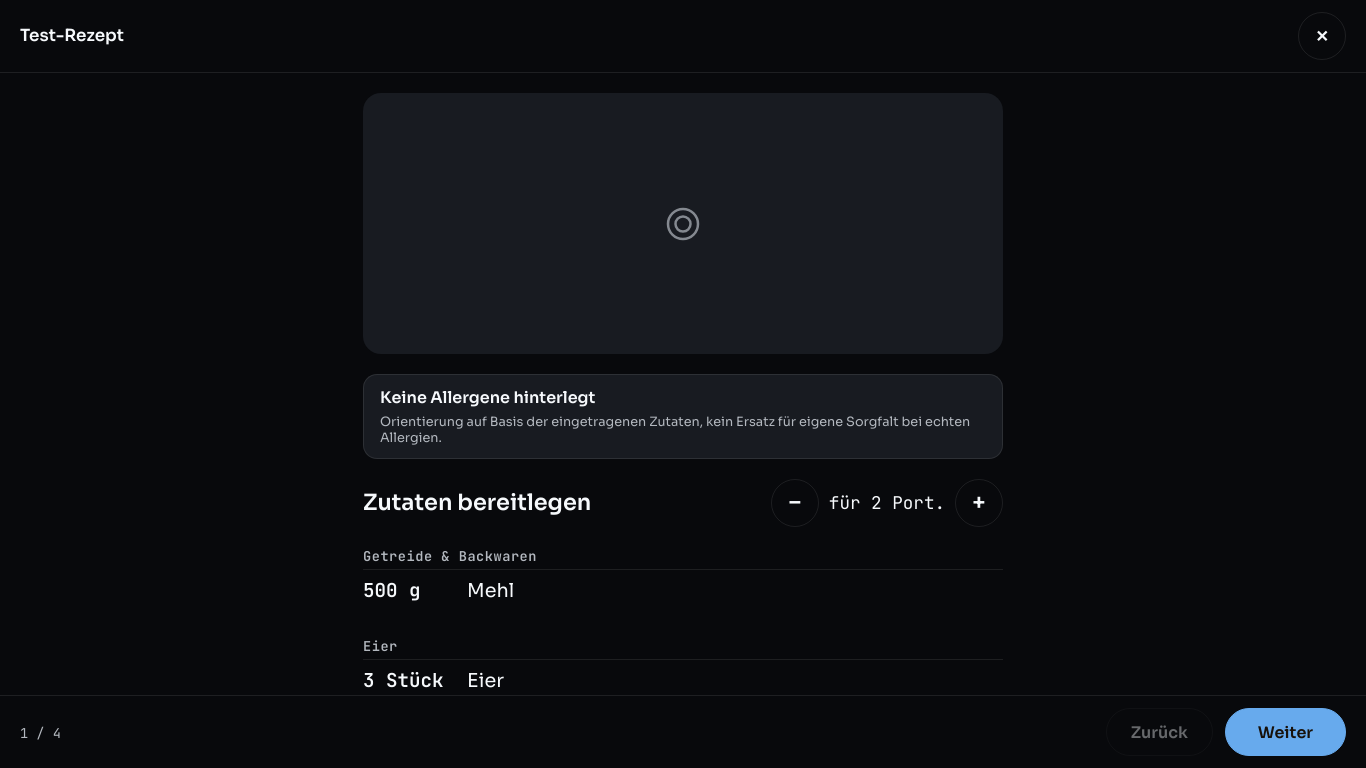
Test case: CookingDialog — Portionswahl › Minus senkt die Menge
Click the button named "Eine halbe Portion weniger": (795, 502) [771,478,819,526]
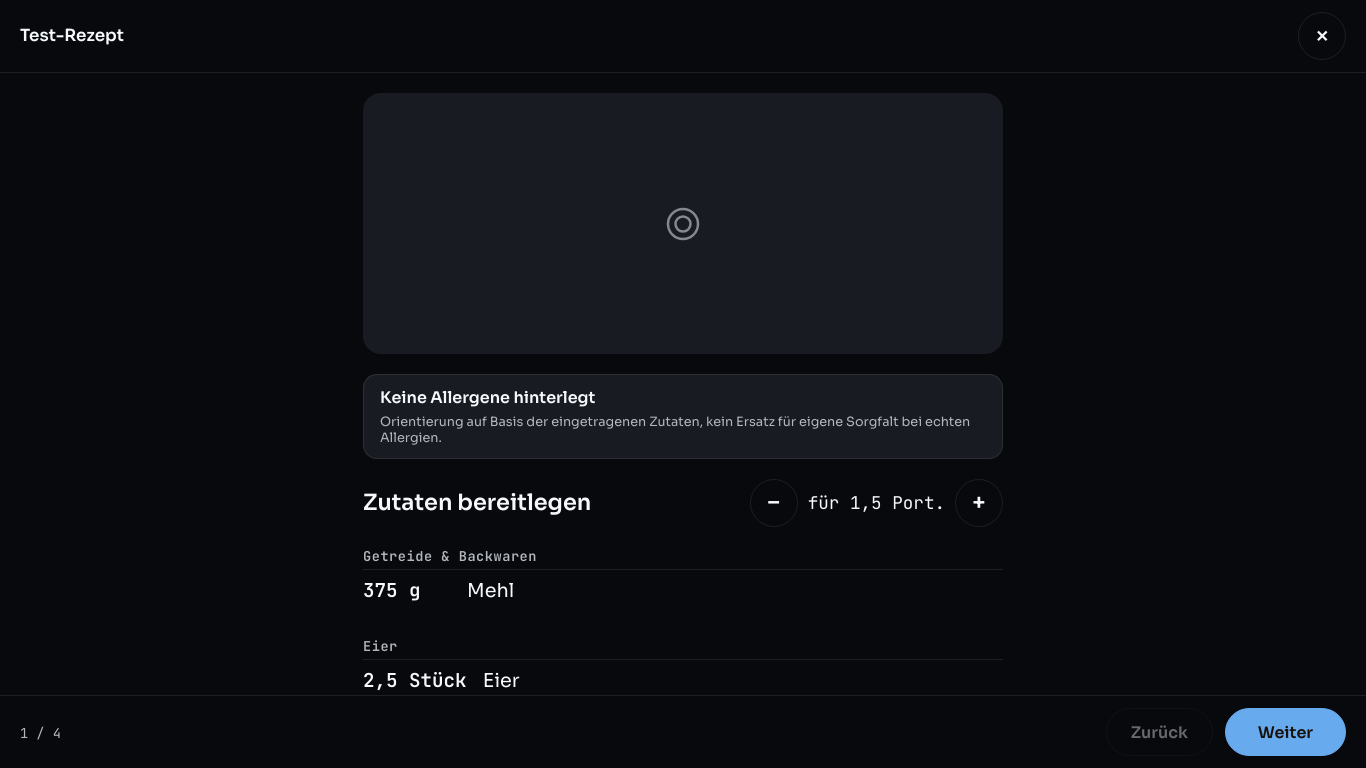
Now the text "für 1,5 Port." is shown, box [808,491,945,514]
Now the text "375 g" is shown, box [363,576,421,602]
